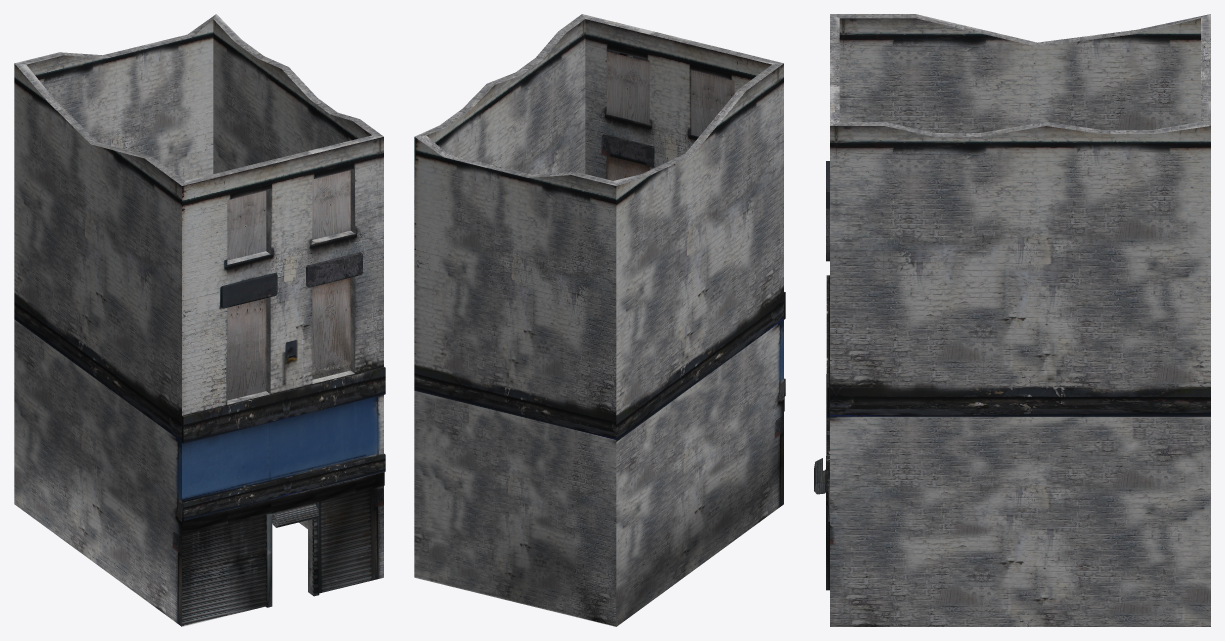
File: building5.obj
3 views of the same model, side by side, from view 1: azimuth 30°, elevation 25°; view 2: azimuth 150°, elevation 25°; view 3: azimuth 270°, elevation 25° (orthographic). The views are drawn at different scales.
Parts seen in each view (by area): view 1: material31; view 2: material31; view 3: material31.
Part boxes in pixels (x1=…): material31: x1=14, y1=14, x2=385, y2=626; material31: x1=414, y1=14, x2=785, y2=626; material31: x1=814, y1=14, x2=1210, y2=626.
Size of the model in its own units: 221 by 461 by 331.
Materials: 1 (1 with a texture image).
